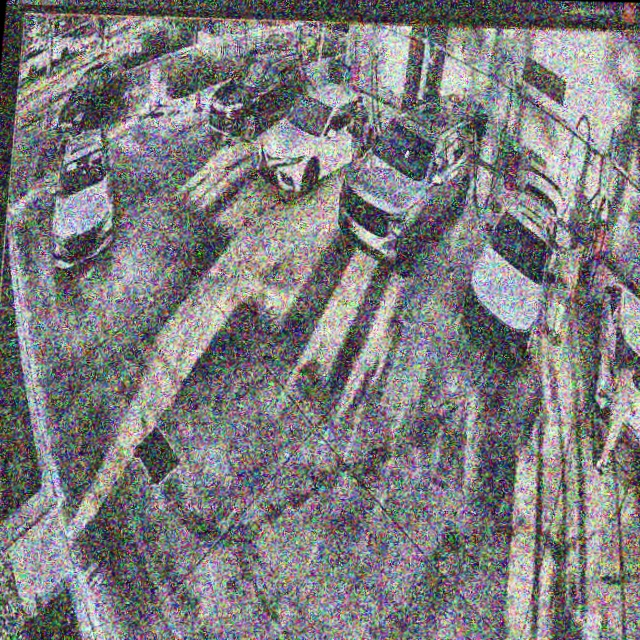Car: (336, 97, 478, 278), (463, 160, 567, 367), (256, 80, 366, 198)
